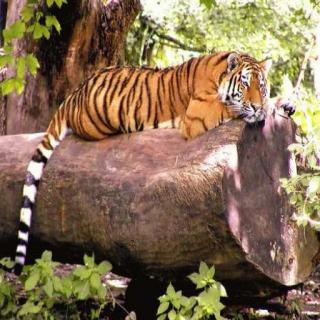Tiger: (6, 38, 294, 265)
